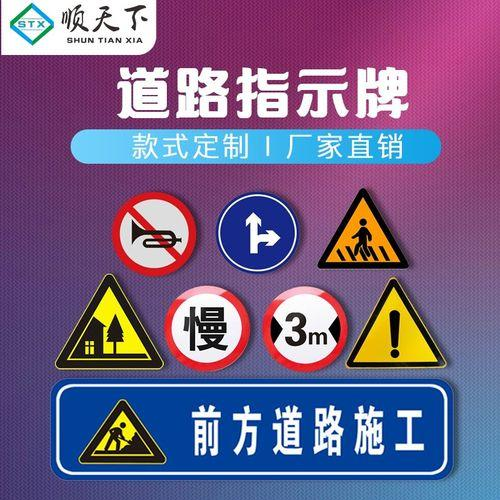sign: (48, 380, 456, 481), (50, 275, 163, 372), (354, 283, 448, 371), (260, 281, 350, 371), (167, 278, 251, 370)
